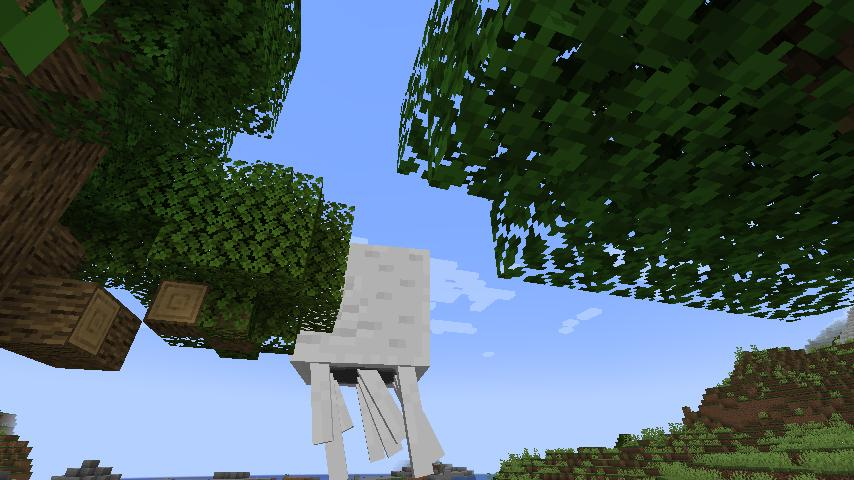ghast: (286, 239, 447, 480)
